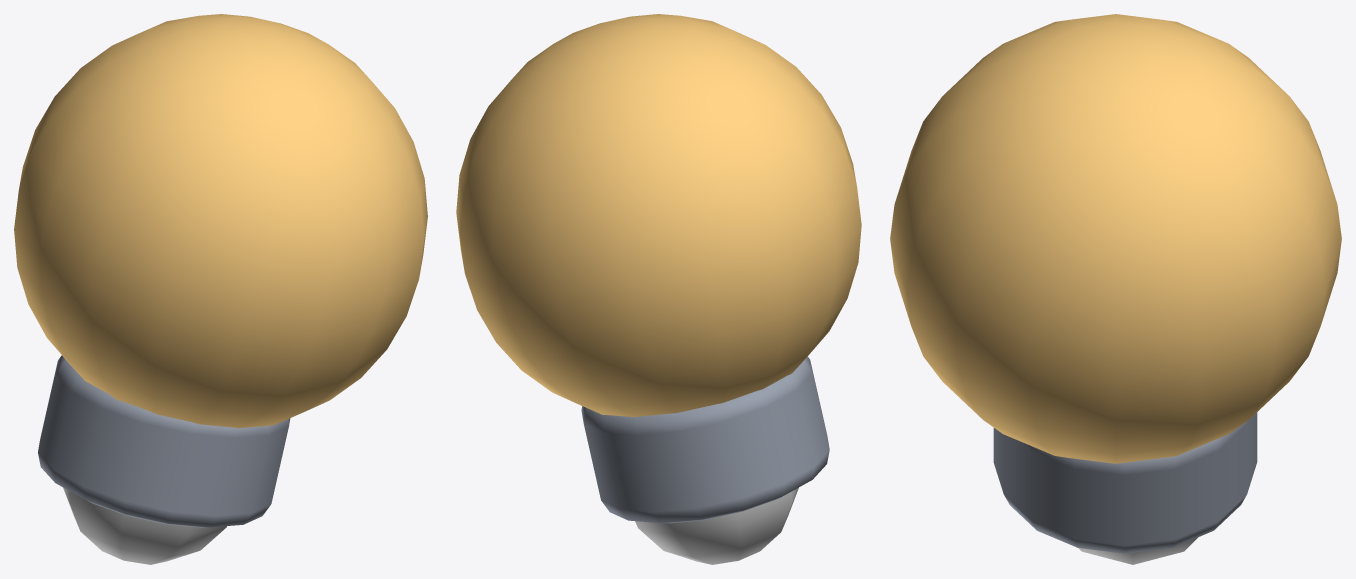
The model's file is bulb.gltf.
The picture shows the model from 3 angles, left to right: view 1: azimuth 30°, elevation 25°; view 2: azimuth 150°, elevation 25°; view 3: azimuth 270°, elevation 25°; orthographic projection. The views are drawn at different scales.
Visible parts, largest first — view 1: Sphere, Cylinder, Sphere 2; view 2: Sphere, Cylinder, Sphere 2; view 3: Sphere, Cylinder, Sphere 2.
Boxes of the visible parts, x1,y1,x2,y2 form: Sphere: (14,14,427,428); Cylinder: (38,355,290,527); Sphere 2: (63,487,226,564); Sphere: (456,14,861,417); Cylinder: (581,356,829,523); Sphere 2: (635,487,798,564); Sphere: (890,14,1341,463); Cylinder: (993,412,1257,553); Sphere 2: (1078,537,1197,564).
Size of the model in its own units: 0.8988 by 1.22 by 0.8999.
